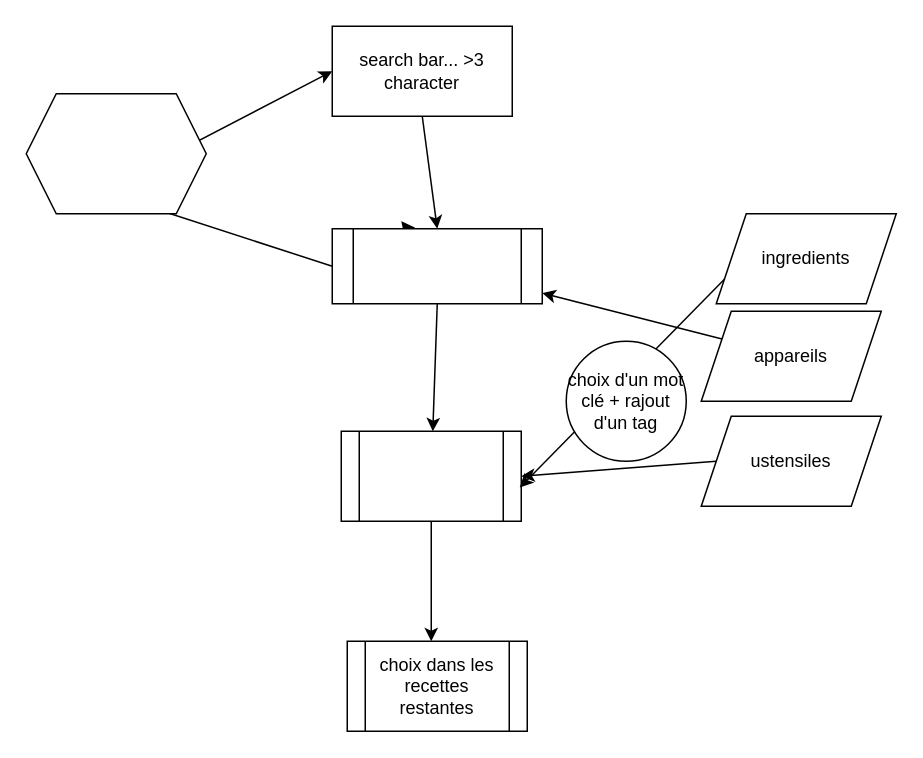
The diagram is 923 pixels wide and 758 high, and some of its shapes have lost their labels. Here are the shapes that lost their labels. From the top down, the centre of each, then its label:
At (115,153): "pas de recettes correspondantes".
At (436,265): "recettes filtrées".
At (430,475): "recettes de nouveaux filtrées".
